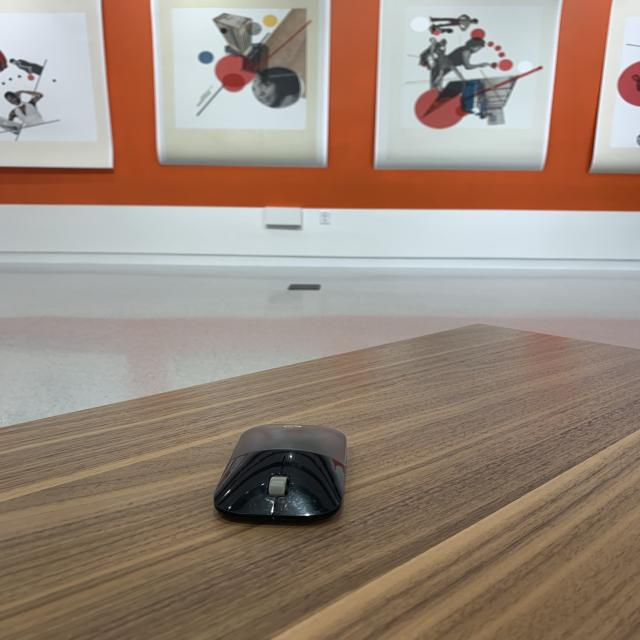Mouse: (210, 415, 354, 534)
